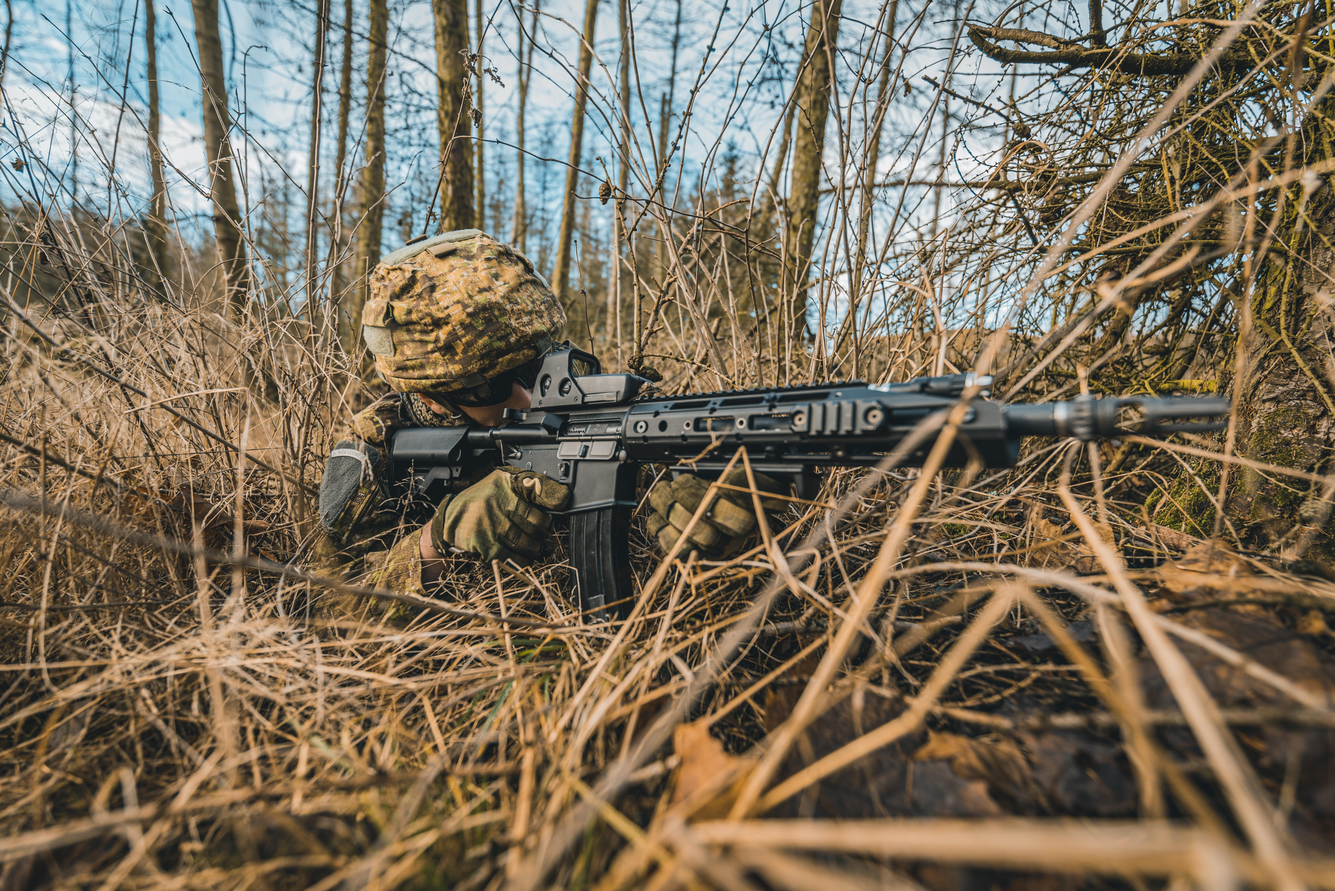larga: (385, 348, 1236, 623)
